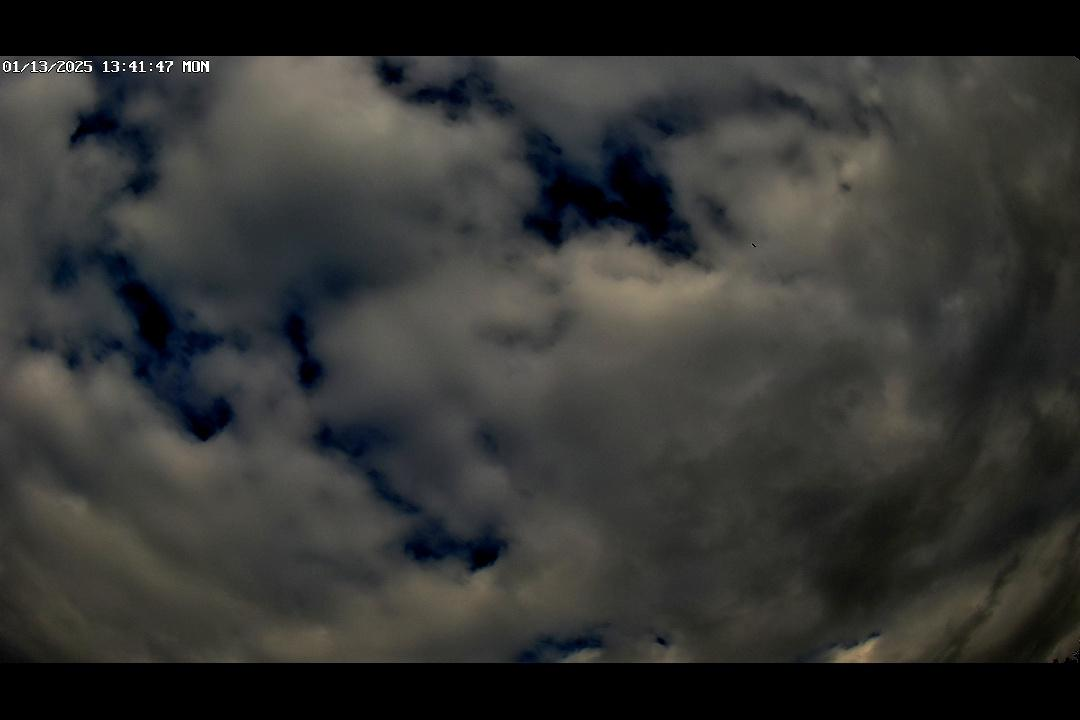WildLife: (741, 238, 770, 251)
